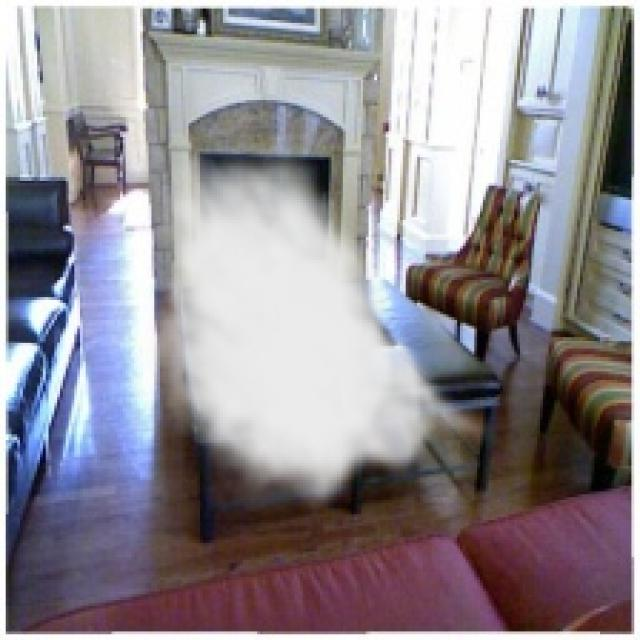smoke: (140, 129, 500, 520)
